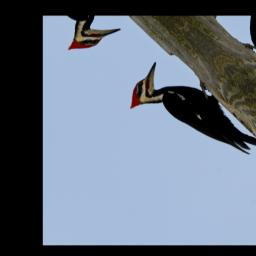Woodpecker: (113, 50, 256, 188)
